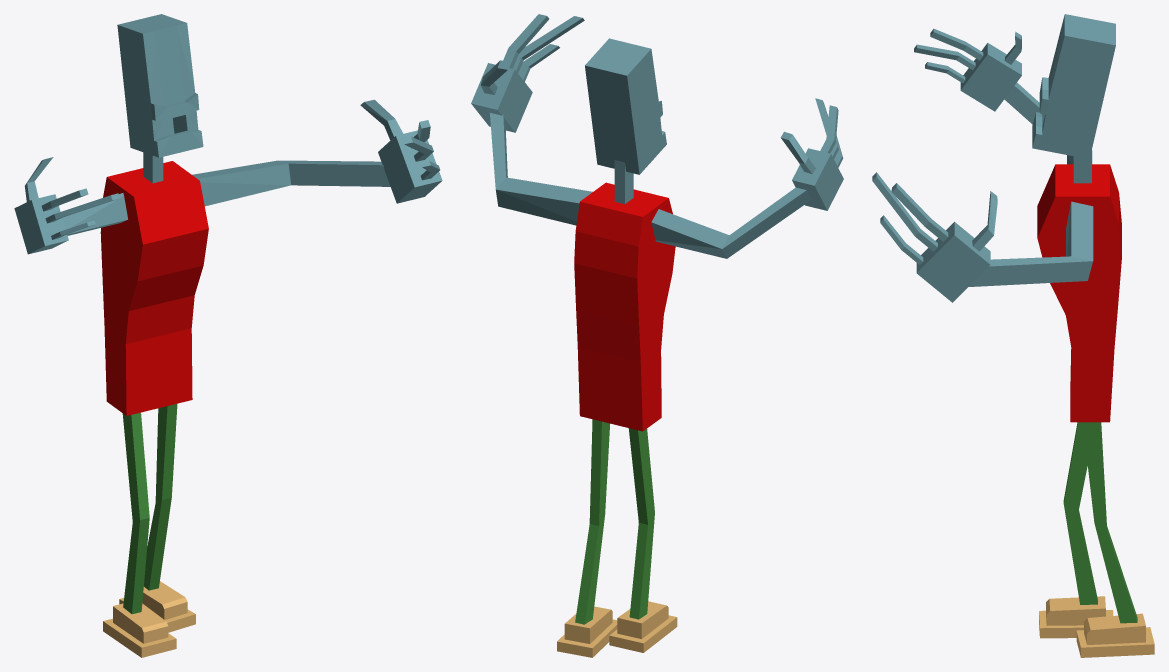
Rendered from CharV5.fbx.
The picture shows the model from 3 angles, left to right: view 1: azimuth 30°, elevation 25°; view 2: azimuth 150°, elevation 25°; view 3: azimuth 270°, elevation 25°; orthographic projection. The views are drawn at different scales.
Parts seen in each view (by area): view 1: polySurface25; view 2: polySurface25; view 3: polySurface25.
Boxes of the visible parts, x1=… form: polySurface25: x1=14, y1=14, x2=442, y2=657; polySurface25: x1=471, y1=14, x2=843, y2=657; polySurface25: x1=872, y1=14, x2=1154, y2=657.
Size of the model in its own units: 23.3 by 36.24 by 15.11.
